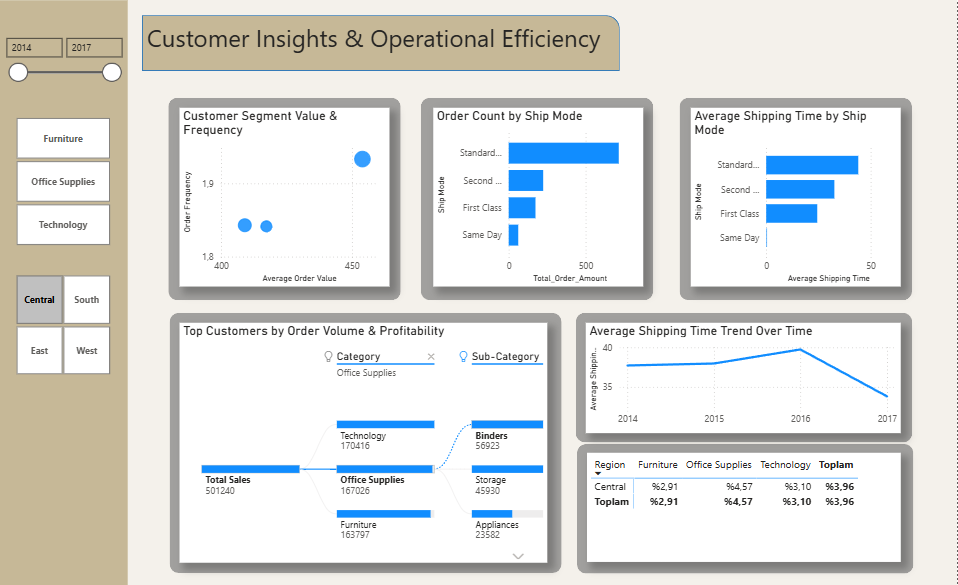

This screenshot's page, from the dashboard's own definition file:
{"tool":"powerbi","page":{"name":"Customer Insight &Operational Efficiency","canvas":[1280,782],"ordinal":2},"visuals":[{"type":"shape","box":[228.6,131.4,310,270],"z":0},{"type":"shape","box":[565.7,131.4,310,270],"z":1000},{"type":"shape","box":[910,131.4,310,270],"z":2000},{"type":"shape","box":[230,418.6,522.9,347.1],"z":3000},{"type":"shape","box":[771.4,418.6,448.6,172.9],"z":4000},{"type":"shape","box":[772.9,592.9,448.6,172.9],"z":5000},{"type":"scatterChart","title":"Customer Segment Value & Frequency","fields":{"Category":["RetailDataSet_ForPowerBI.Segment"],"Y":["RetailDataSet_ForPowerBI.Order Frequency"],"Size":["Sum(RetailDataSet_ForPowerBI.Profit)"],"X":["RetailDataSet_ForPowerBI.Average Order Value"]},"box":[242.9,144.3,280,238.6],"z":6000},{"type":"decompositionTreeVisual","title":"Top Customers by Order Volume & Profitability","fields":{"Analyze":["Sum(RetailDataSet_ForPowerBI.Sales)"],"ExplainBy":["RetailDataSet_ForPowerBI.Category","RetailDataSet_ForPowerBI.Sub-Category"]},"box":[242.9,431.4,490,320],"z":7000},{"type":"barChart","title":"Order Count by Ship Mode","fields":{"Category":["RetailDataSet_ForPowerBI.Ship Mode"],"Y":["RetailDataSet_ForPowerBI.Total_Order_Amount"]},"box":[581.4,145.7,280,238.6],"z":8000},{"type":"barChart","title":"Average Shipping Time by Ship Mode","fields":{"Category":["RetailDataSet_ForPowerBI.Ship Mode"],"Y":["RetailDataSet_ForPowerBI.Average Shipping Time"]},"box":[925.7,144.3,280,238.6],"z":9000},{"type":"pivotTable","fields":{"Rows":["RetailDataSet_ForPowerBI.Region"],"Columns":["RetailDataSet_ForPowerBI.Category"],"Values":["RetailDataSet_ForPowerBI.Return Rate %"]},"box":[787.1,605.7,418.6,145.7],"z":10000},{"type":"lineChart","title":"Average Shipping Time Trend Over Time","fields":{"Category":["RetailDataSet_ForPowerBI.Order Date.Varyasyon.Tarih Hiyerarşisi.Yıl","RetailDataSet_ForPowerBI.Order Date.Varyasyon.Tarih Hiyerarşisi.Çeyrek","RetailDataSet_ForPowerBI.Order Date.Varyasyon.Tarih Hiyerarşisi.Ay","RetailDataSet_ForPowerBI.Order Date.Varyasyon.Tarih Hiyerarşisi.Gün"],"Y":["RetailDataSet_ForPowerBI.Average Shipping Time"]},"box":[785.7,431.4,420,147.1],"z":11000},{"type":"shape","box":[0,1.4,174.3,780],"z":12000},{"type":"shape","box":[192.9,21.4,637.1,74.3],"z":13000},{"type":"slicer","fields":{"Values":["RetailDataSet_ForPowerBI.Order Year"]},"box":[0,41.4,174.3,110],"z":14000},{"type":"slicer","fields":{"Values":["RetailDataSet_ForPowerBI.Category"]},"box":[0,151.4,174.3,182.9],"z":15000},{"type":"slicer","fields":{"Values":["RetailDataSet_ForPowerBI.Region"]},"box":[0,361.4,174.3,145.7],"z":16000},{"type":"textbox","box":[194.3,24.3,635.7,72.9],"z":17000}]}

Visuals, with their boxes in screenshot pixels (x1, y1, x2, y2), scaled from the page's 1280x782 canvas onto the 958x585 screenshot:
shape: 171, 98, 403, 300
shape: 423, 98, 655, 300
shape: 681, 98, 913, 300
shape: 172, 313, 563, 573
shape: 577, 313, 913, 442
shape: 578, 444, 914, 573
"Customer Segment Value & Frequency" scatterChart: 182, 108, 391, 286
"Top Customers by Order Volume & Profitability" decompositionTreeVisual: 182, 323, 549, 562
"Order Count by Ship Mode" barChart: 435, 109, 645, 287
"Average Shipping Time by Ship Mode" barChart: 693, 108, 902, 286
pivotTable - RetailDataSet_ForPowerBI.Region x RetailDataSet_ForPowerBI.Category: 589, 453, 902, 562
"Average Shipping Time Trend Over Time" lineChart: 588, 323, 902, 433
shape: 0, 1, 130, 584
shape: 144, 16, 621, 72
slicer - RetailDataSet_ForPowerBI.Order Year: 0, 31, 130, 113
slicer - RetailDataSet_ForPowerBI.Category: 0, 113, 130, 250
slicer - RetailDataSet_ForPowerBI.Region: 0, 270, 130, 379
textbox: 145, 18, 621, 73
